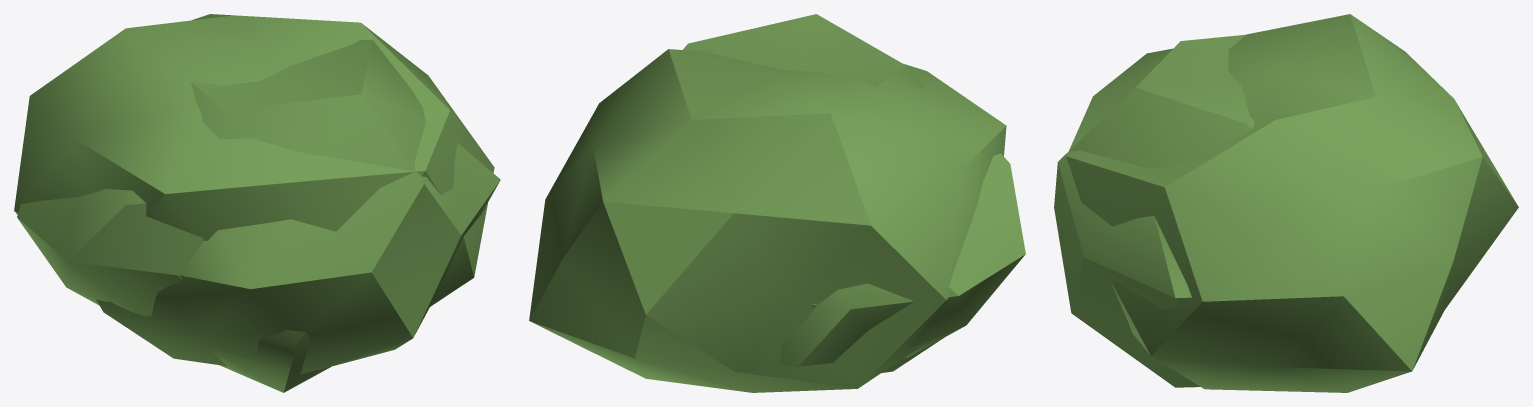
File: bush.glb
3 views of the same model, side by side, from view 1: azimuth 30°, elevation 25°; view 2: azimuth 150°, elevation 25°; view 3: azimuth 270°, elevation 25° (orthographic). The views are drawn at different scales.
Visible parts, largest first — view 1: bush; view 2: bush; view 3: bush.
Boxes of the visible parts, x1,y1,x2,y2 form: bush: [14, 14, 500, 392]; bush: [529, 14, 1025, 392]; bush: [1054, 14, 1518, 392].
Bounding box in the file's own units: 2.17 × 1.57 × 2.17.
